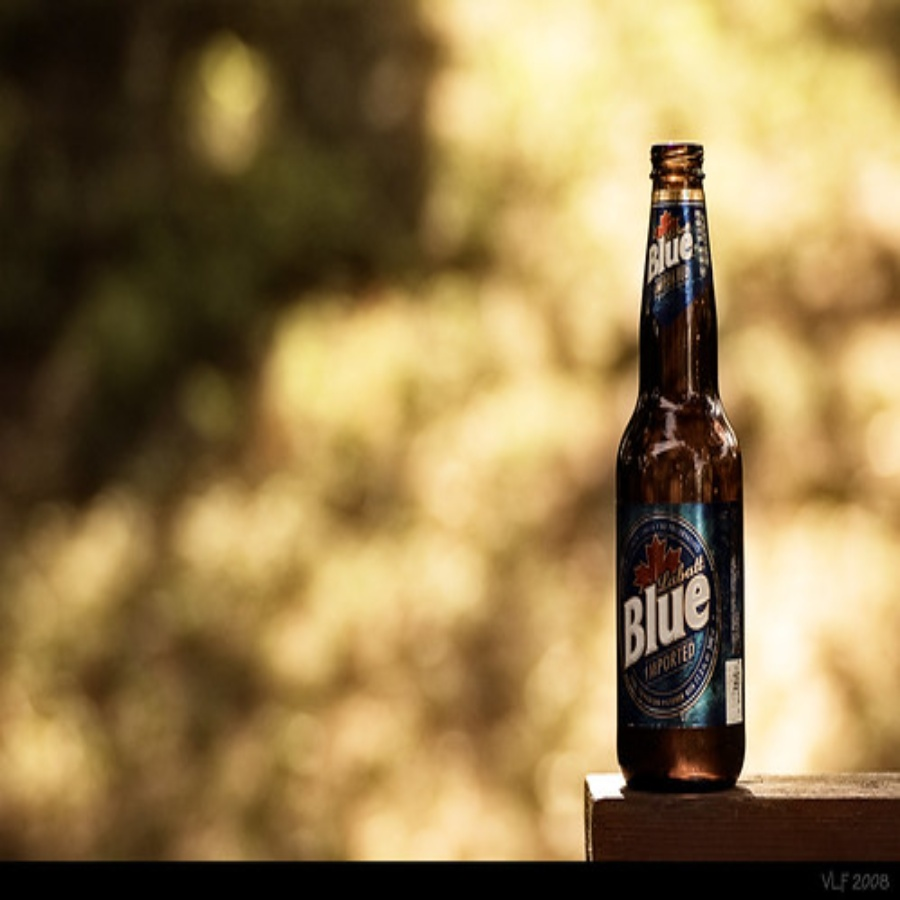beer: (617, 128, 757, 792)
